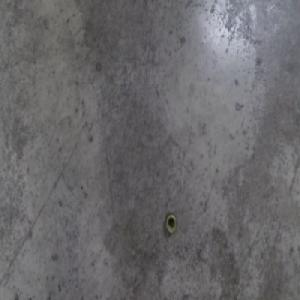Nut: (165, 211, 177, 235)
